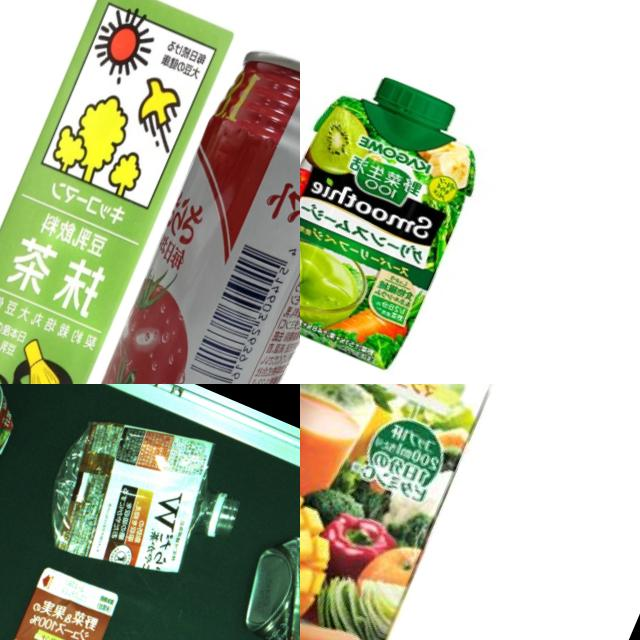Aluminium Foil: (0, 0, 245, 384), (300, 384, 577, 640), (300, 50, 510, 384)
Can: (50, 25, 300, 384), (230, 510, 300, 640)
Transparent Plastic Bottle: (35, 390, 256, 602)
